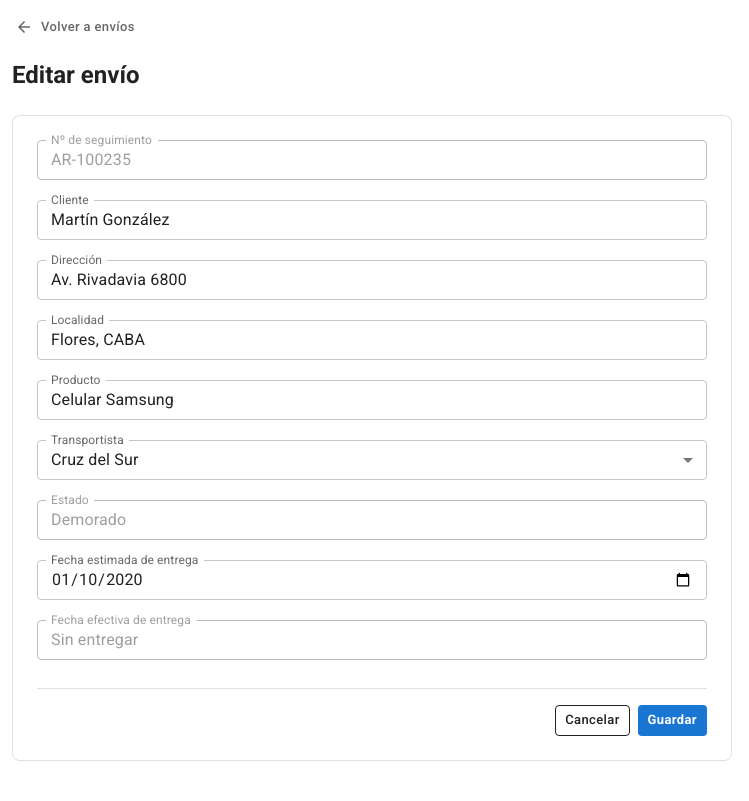
Test case: ShipmentFormPage › valida los datos con las mismas reglas que la creación
Clear the field labelled "Cliente" at coordinates (372, 220), box [37,200,707,240]
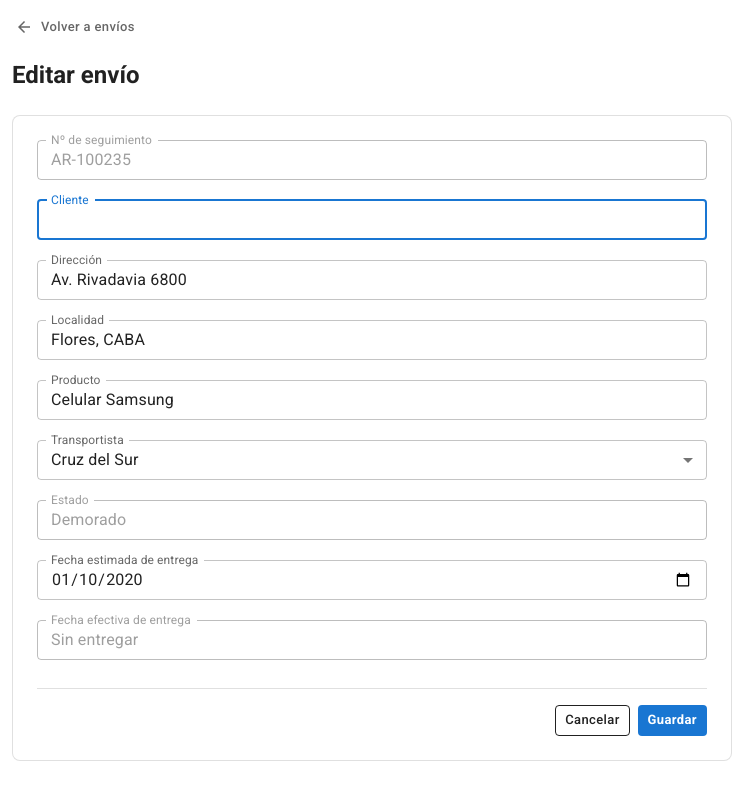
Click the button "Guardar" at coordinates (672, 720), box [638,705,707,736]
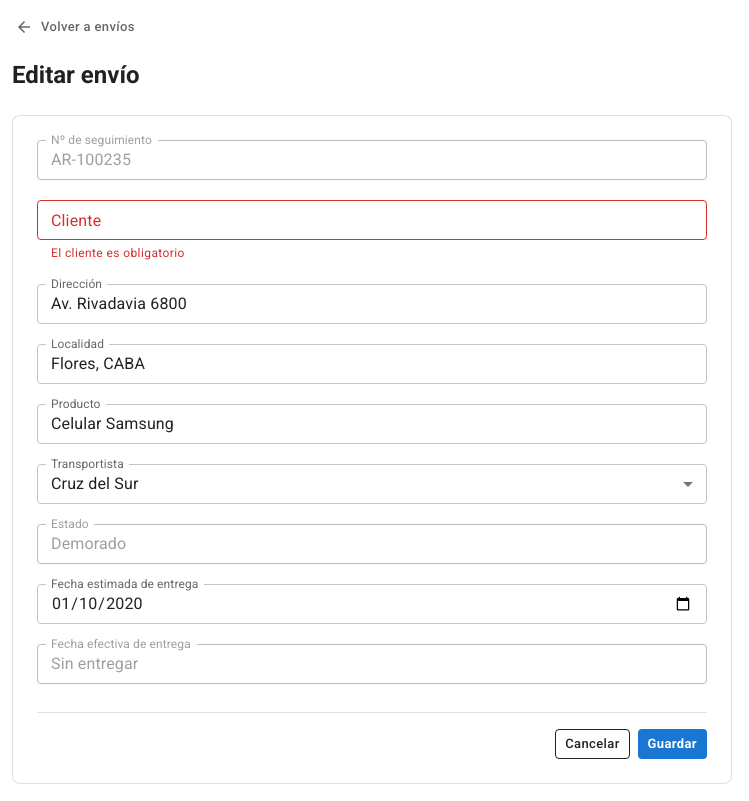
Expected: the text "El cliente es obligatorio" is shown, [51,246,185,260]
